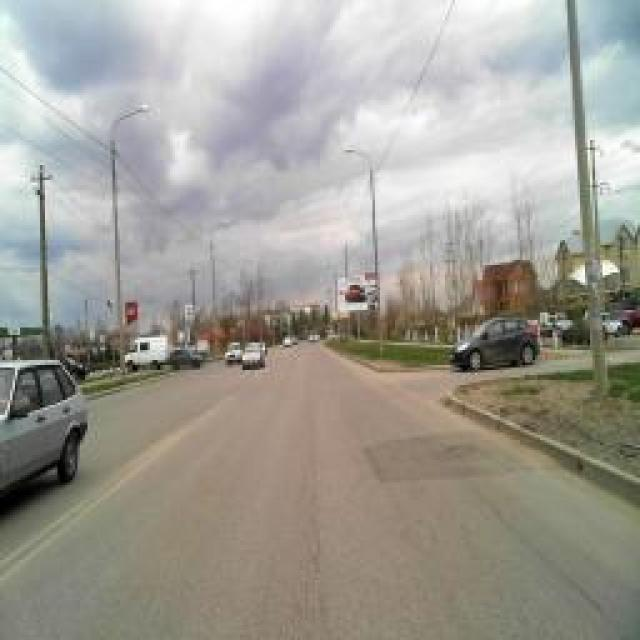sign: (366, 291, 376, 311)
